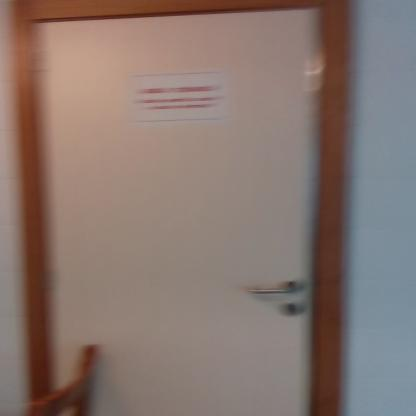door: (30, 13, 312, 416)
hinged: (42, 265, 52, 290), (30, 53, 40, 74)
lever: (236, 282, 303, 298)
